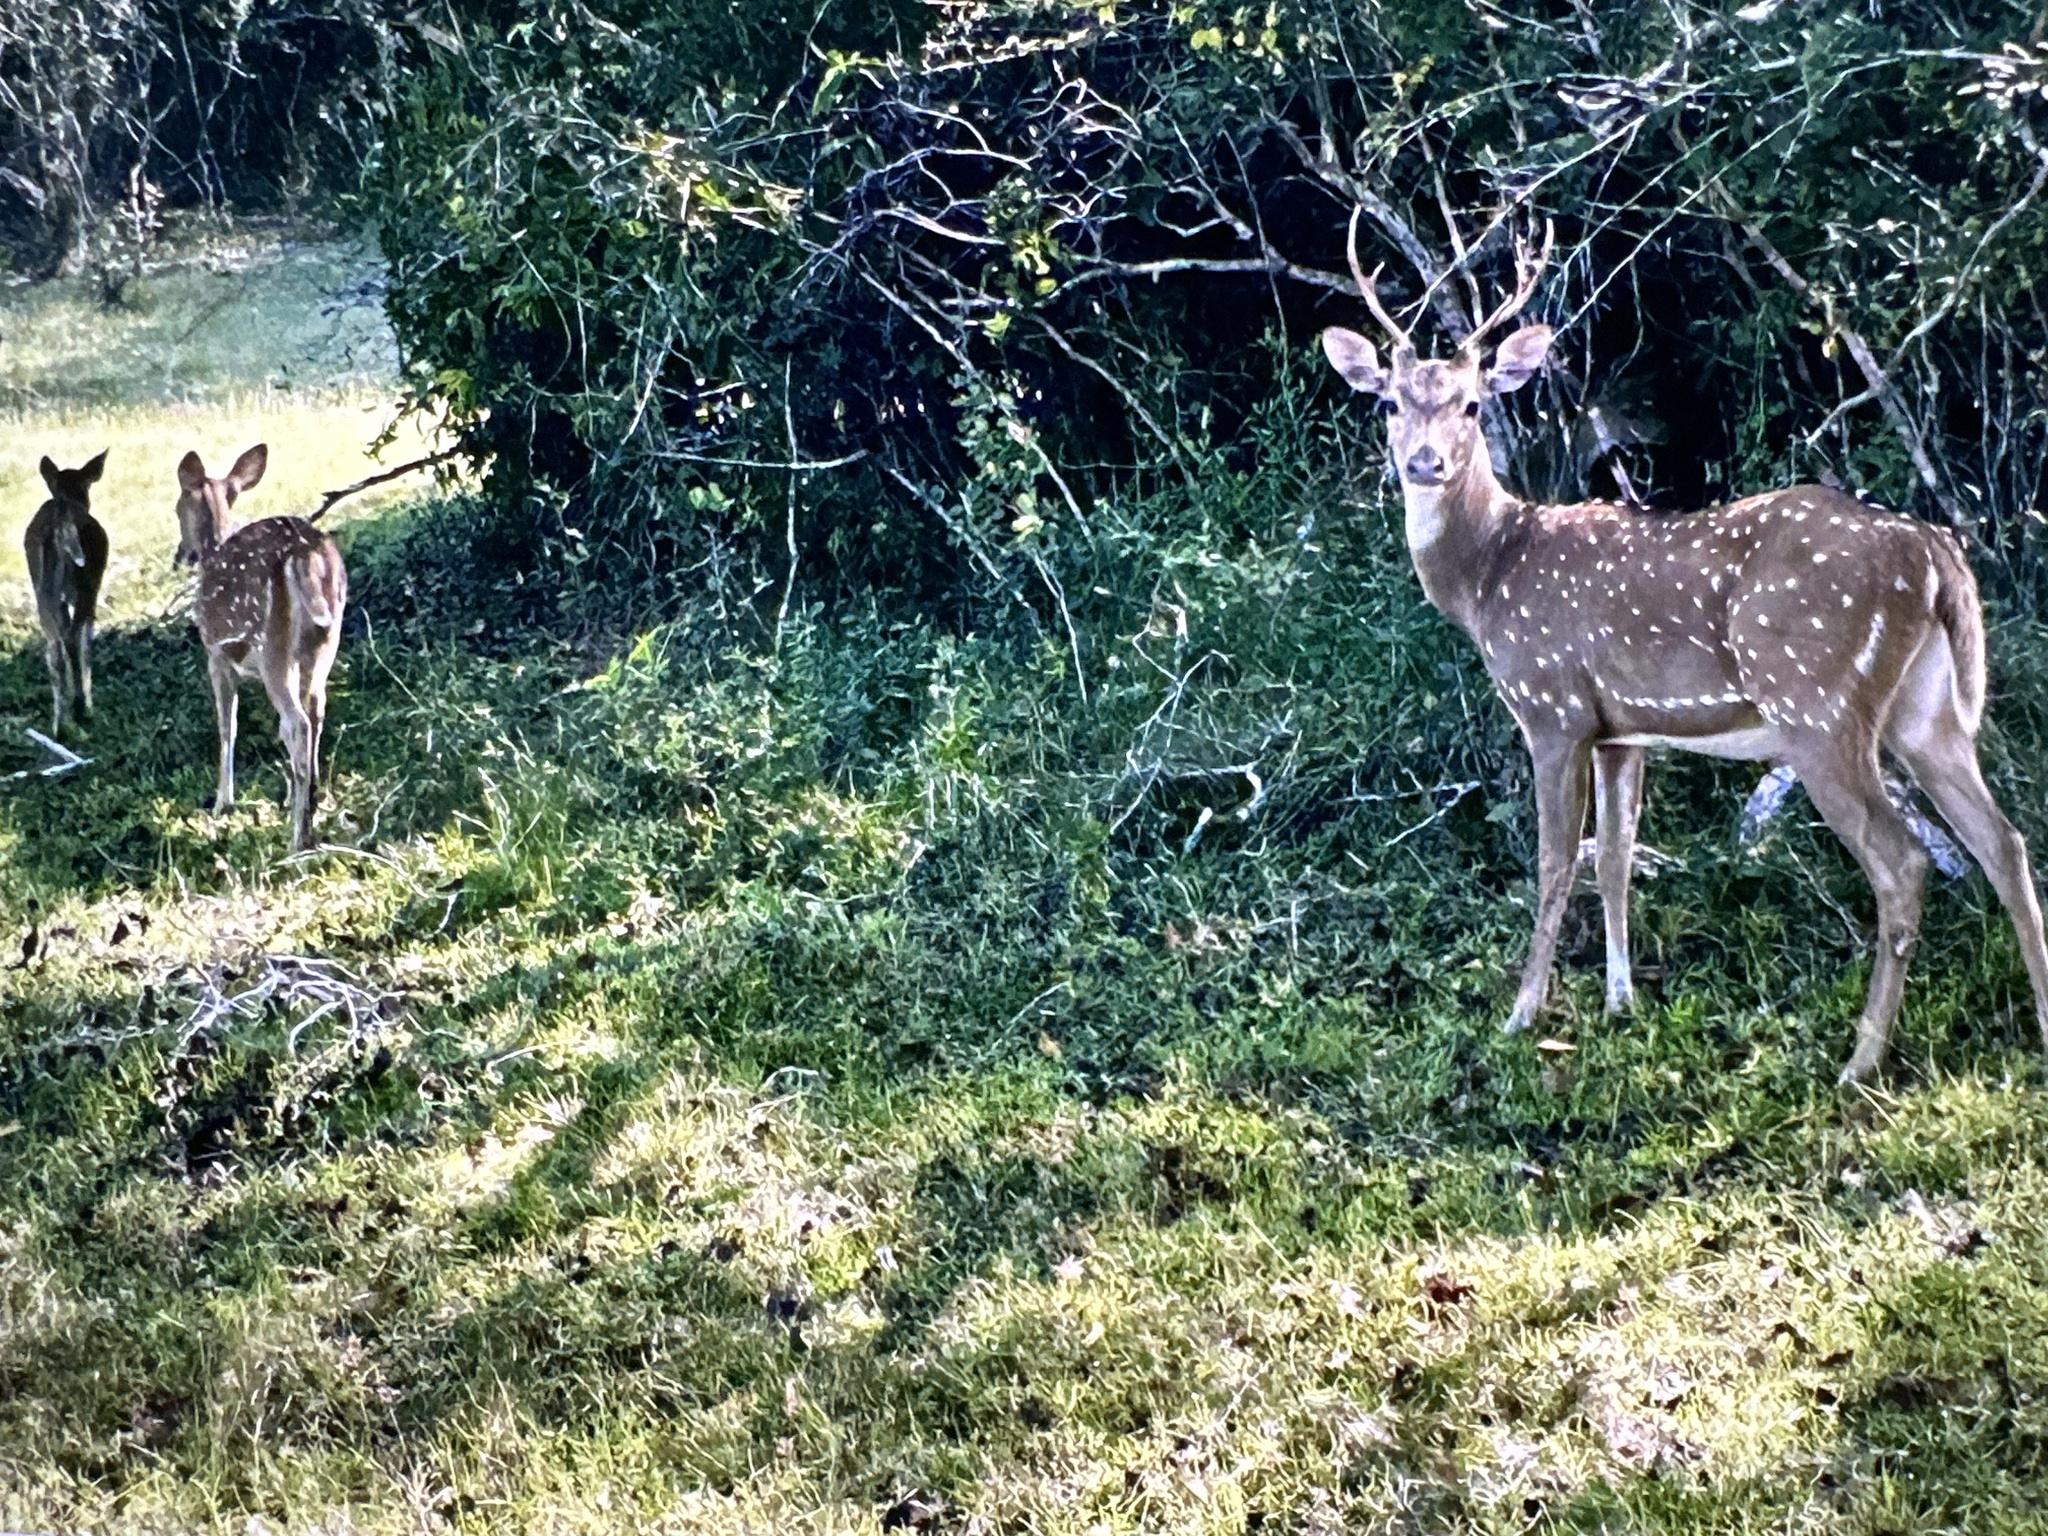Deer: (1321, 227, 2046, 1083), (176, 445, 347, 852), (24, 453, 110, 737)
